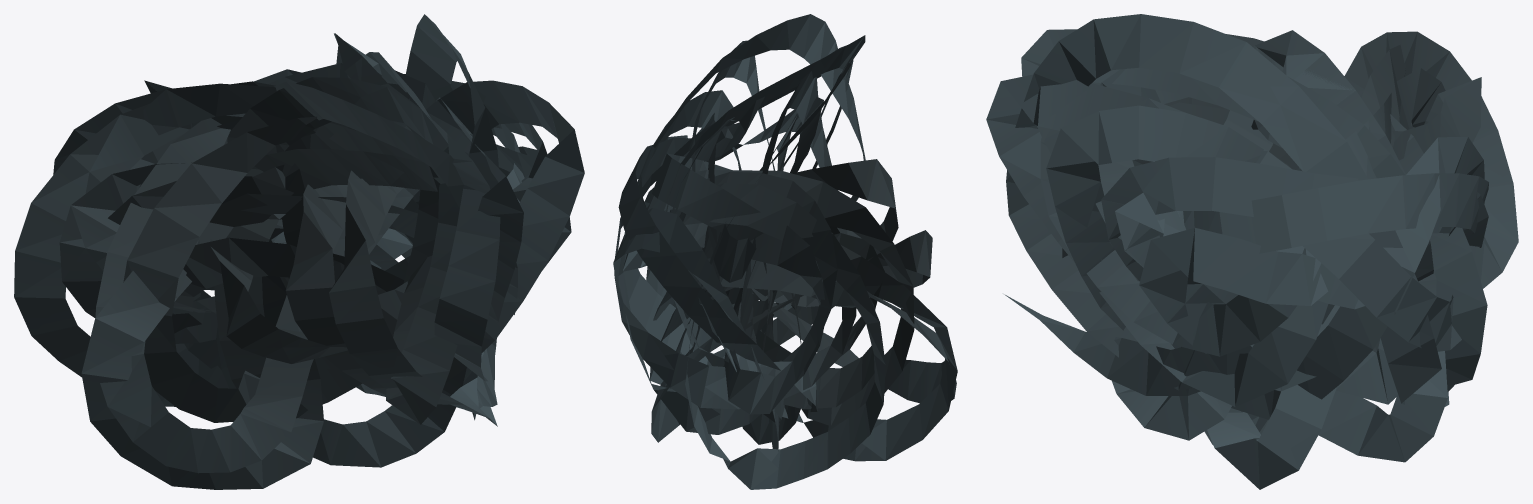
Rendered from Sadnessbubble.fbx.
3 views of the same model, side by side, from view 1: azimuth 30°, elevation 25°; view 2: azimuth 150°, elevation 25°; view 3: azimuth 270°, elevation 25° (orthographic). The views are drawn at different scales.
Visible parts, largest first — view 1: Sadness; view 2: Sadness; view 3: Sadness.
Boxes of the visible parts, <box> form: Sadness: <box>14,14,584,489</box>; Sadness: <box>613,14,957,489</box>; Sadness: <box>986,14,1518,489</box>.
Bounding box in the file's own units: 0.5207 × 0.5397 × 0.565.
